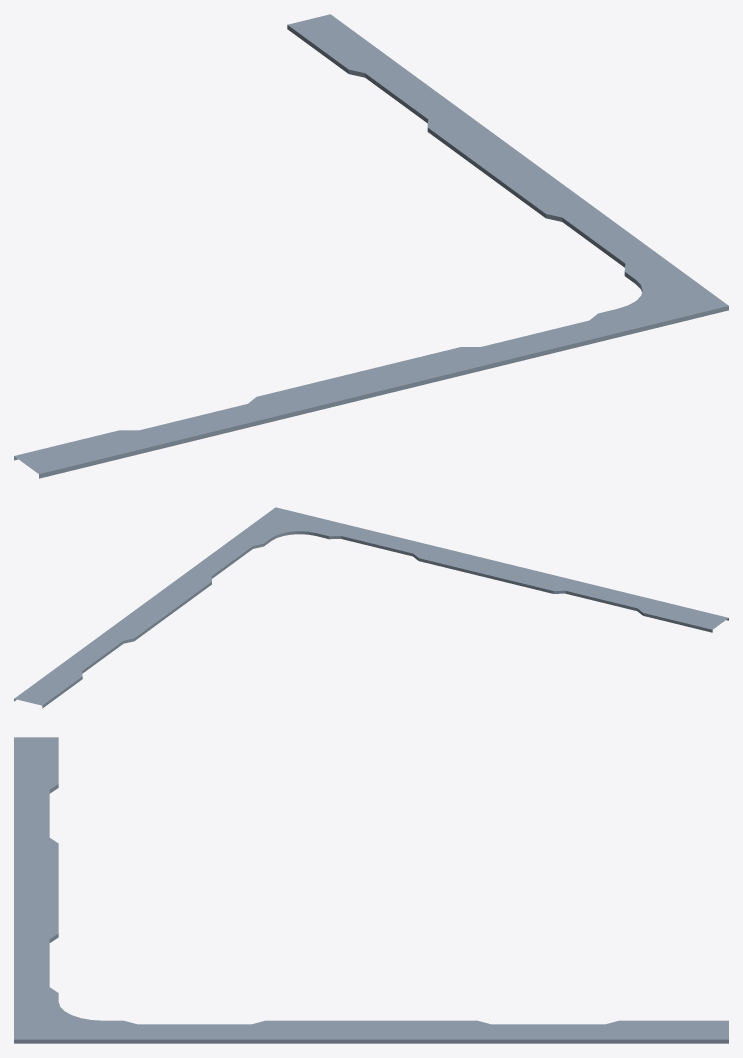
File: RoadSideL.fbx
The picture shows the model from 3 angles, top to bottom: view 1: azimuth 30°, elevation 25°; view 2: azimuth 150°, elevation 25°; view 3: azimuth 270°, elevation 25°; orthographic projection. The views are drawn at different scales.
Parts seen in each view (by area): view 1: RoadSideL_LOD0; view 2: RoadSideL_LOD0; view 3: RoadSideL_LOD0.
Boxes of the visible parts, box(x1,y1,x2,y2) form: RoadSideL_LOD0: box(14, 14, 728, 478); RoadSideL_LOD0: box(14, 507, 728, 708); RoadSideL_LOD0: box(14, 737, 728, 1043).
Size of what is drawn, in the model's own units: 1600 by 10 by 1600.
